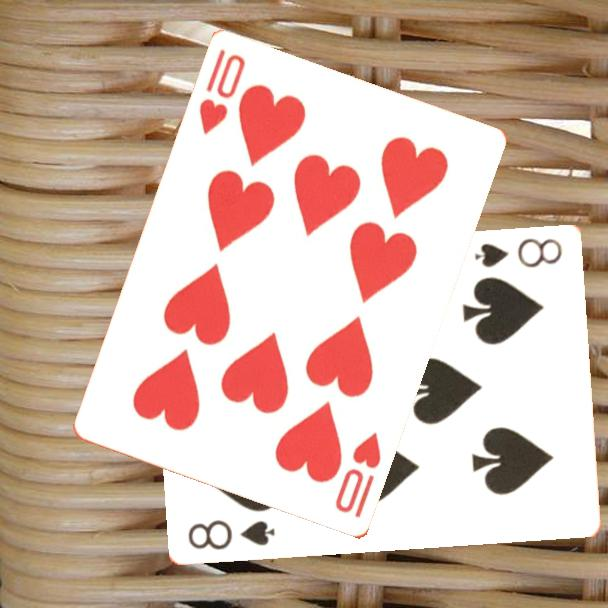h10: (331, 429, 385, 522), (195, 45, 249, 138)
s08: (471, 234, 565, 270), (185, 516, 279, 552)
